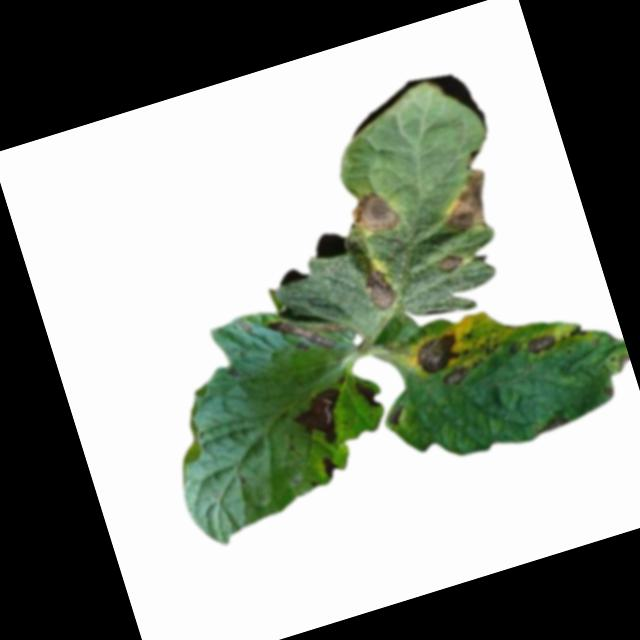Early_blight: (267, 299, 351, 365), (286, 382, 356, 454), (434, 167, 504, 237), (343, 187, 404, 243), (411, 329, 465, 377), (358, 263, 402, 317), (531, 412, 574, 438), (353, 377, 382, 412), (439, 363, 471, 393), (437, 248, 469, 277), (524, 332, 557, 357), (320, 454, 343, 479), (568, 322, 589, 343)
